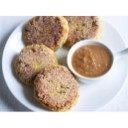cutlet: (16, 43, 58, 87), (36, 65, 76, 111), (23, 15, 67, 52), (62, 16, 103, 45)
